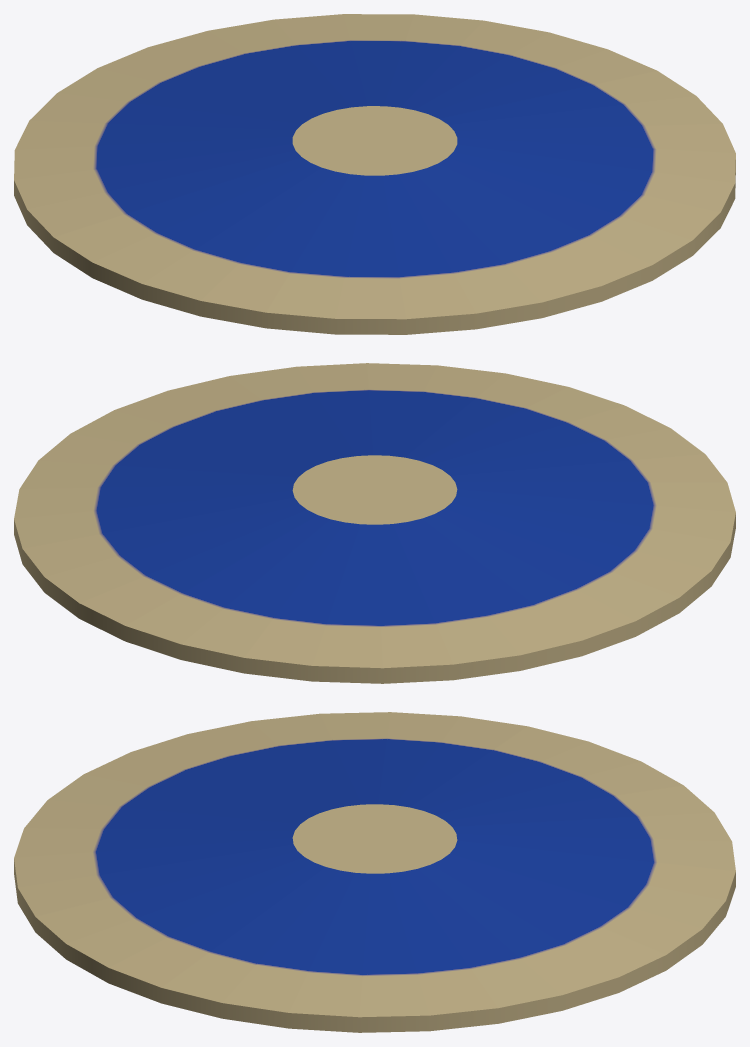
The model's file is Disc_Man.FBX.
3 renders of one model, top to bottom at view 1: azimuth 30°, elevation 25°; view 2: azimuth 150°, elevation 25°; view 3: azimuth 270°, elevation 25°, orthographic.
Visible parts, largest first — view 1: Disc_man; view 2: Disc_man; view 3: Disc_man.
Part boxes in pixels (x1,y1,x2,y2): Disc_man: [14, 14, 735, 334]; Disc_man: [14, 363, 735, 683]; Disc_man: [14, 712, 735, 1032].
Size of the model in its own units: 2.11 by 0.216 by 2.11.
